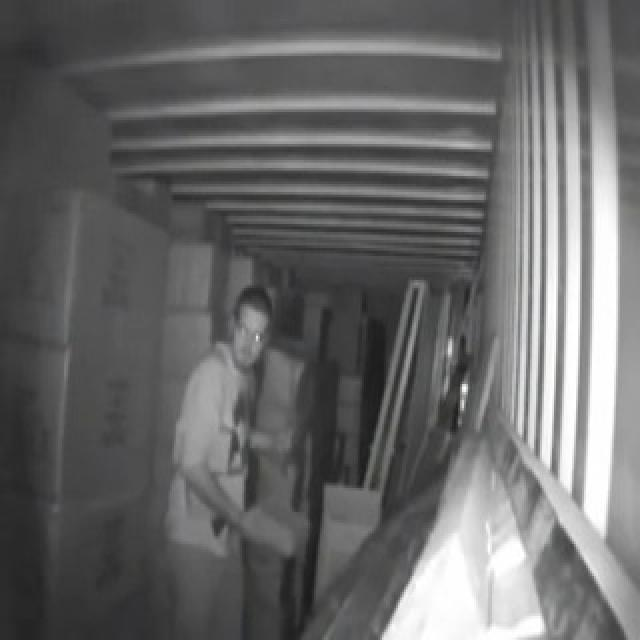thief: (178, 276, 289, 638)
